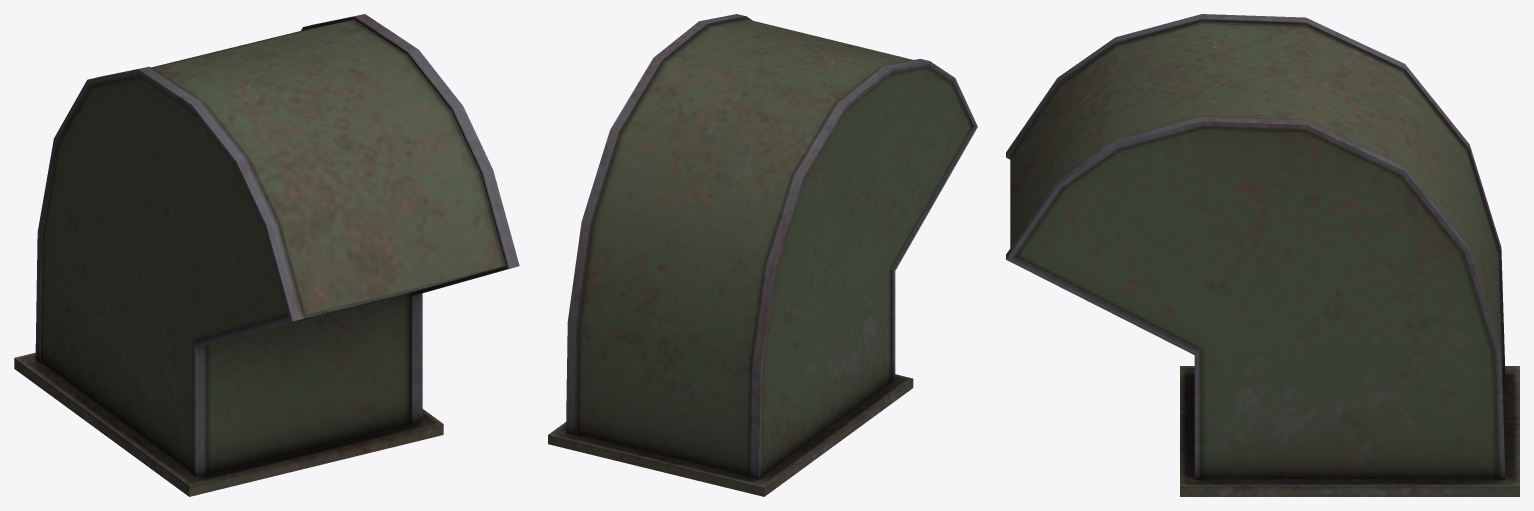
Rendered from Vent_03.fbx.
3 views of the same model, side by side, from view 1: azimuth 30°, elevation 25°; view 2: azimuth 150°, elevation 25°; view 3: azimuth 270°, elevation 25° (orthographic). The views are drawn at different scales.
Parts seen in each view (by area): view 1: Vent_3; view 2: Vent_3; view 3: Vent_3.
Part boxes in pixels (<box>): Vent_3: <box>14,14,519,496</box>; Vent_3: <box>548,14,977,496</box>; Vent_3: <box>1006,14,1519,496</box>.
Size of the model in its own units: 45.66 by 65.29 by 82.36.
